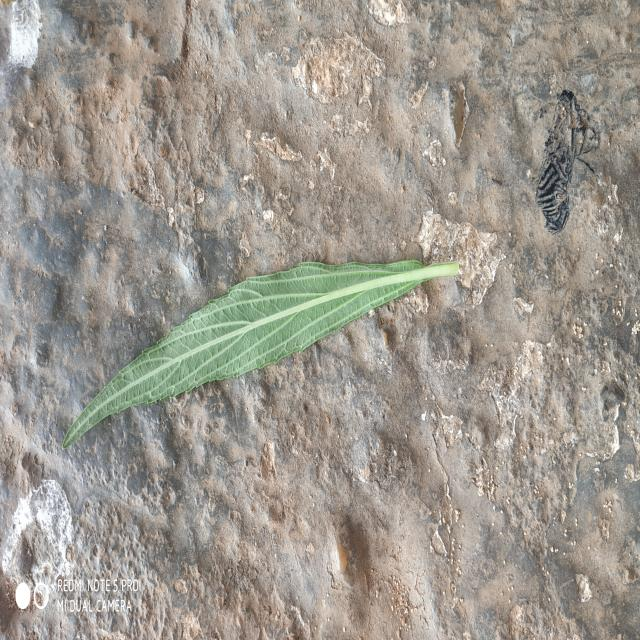defectedthambe: (64, 269, 305, 447)
thambe: (65, 260, 459, 444)
